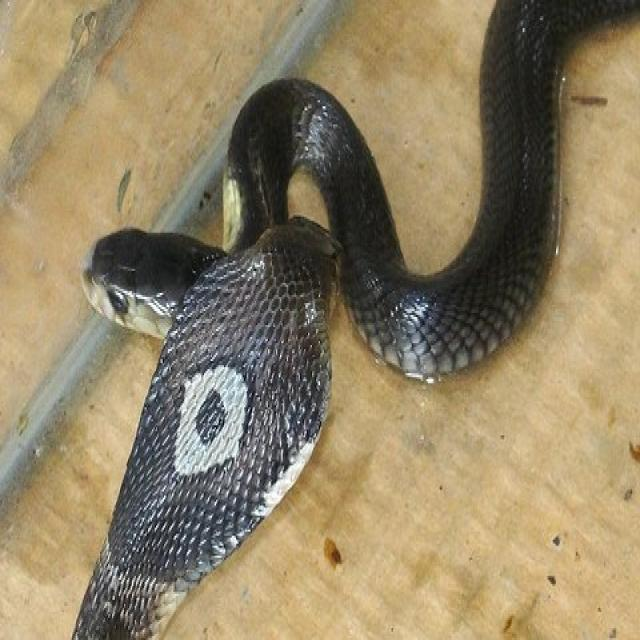Snake: (69, 0, 639, 638)
